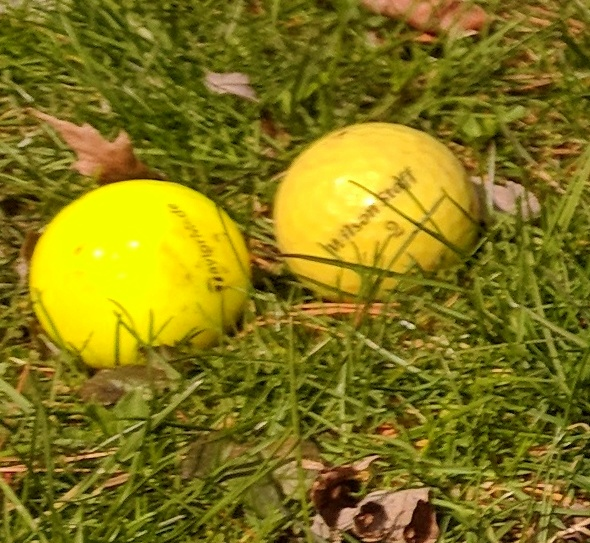ball: (26, 180, 257, 372)
